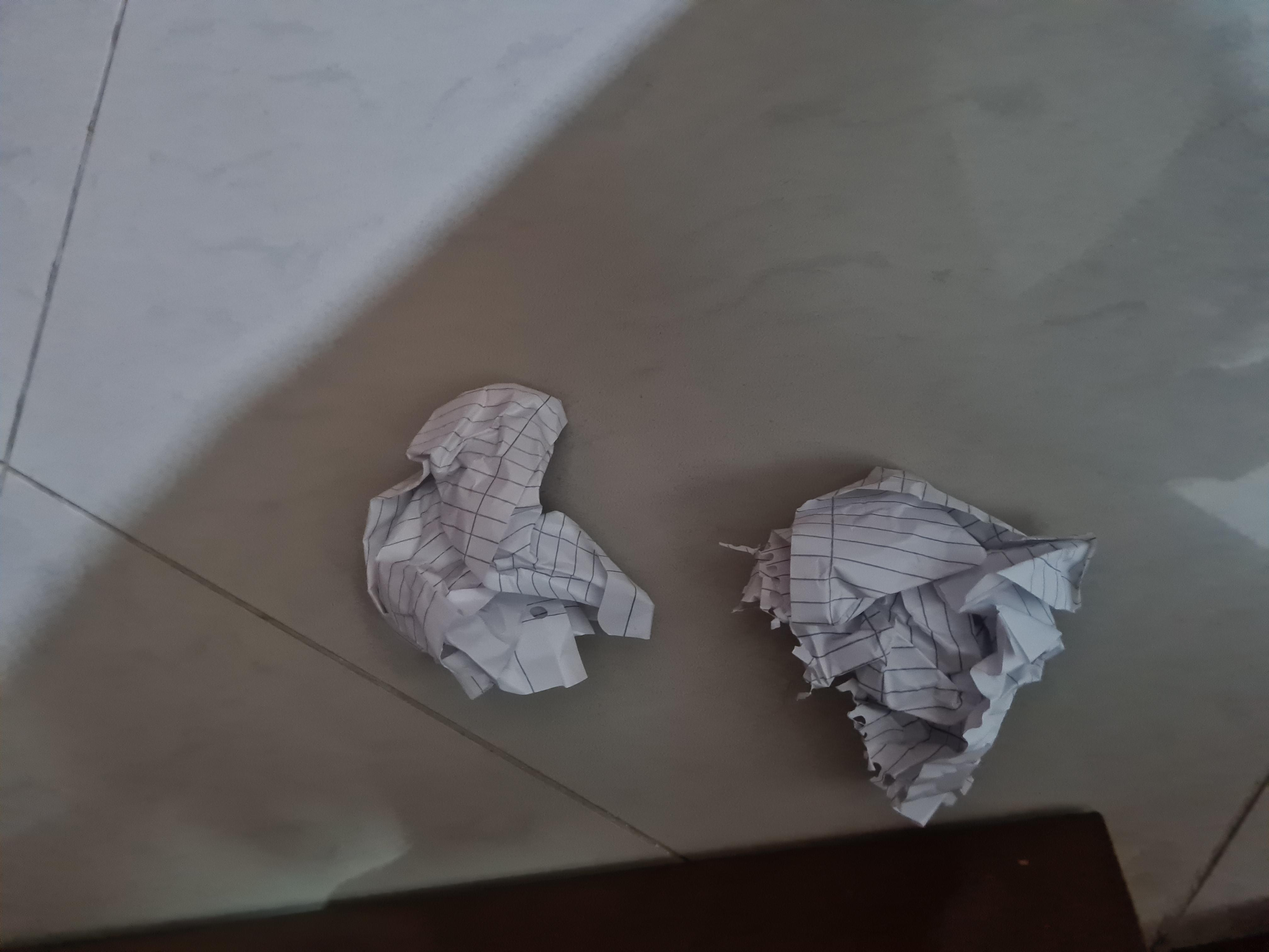paper: (332, 265, 782, 492)
